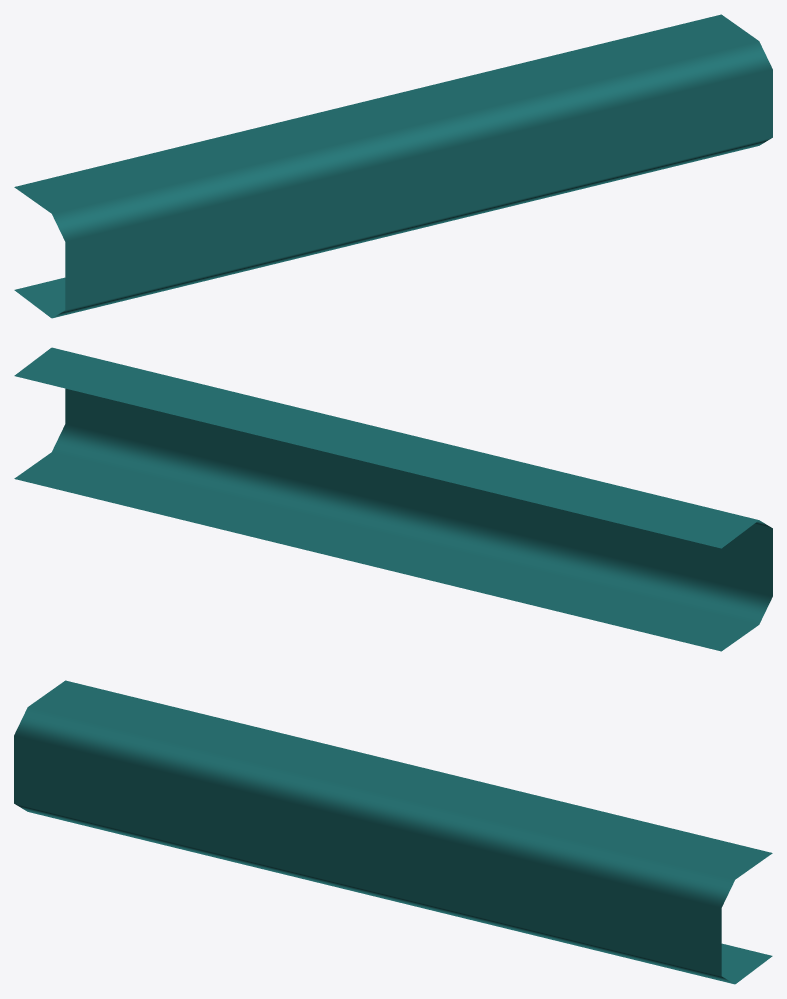
File: SM_Window_Rim_Thick.fbx
3 renders of one model, top to bottom at view 1: azimuth 30°, elevation 25°; view 2: azimuth 150°, elevation 25°; view 3: azimuth 330°, elevation 25°, orthographic.
Parts seen in each view (by area): view 1: Object019; view 2: Object019; view 3: Object019.
Boxes of the visible parts, x1,y1,x2,y2 form: Object019: [14, 14, 772, 318]; Object019: [14, 347, 772, 651]; Object019: [14, 680, 772, 984].
Bounding box in the file's own units: 80.44 × 11.38 × 10.13.
